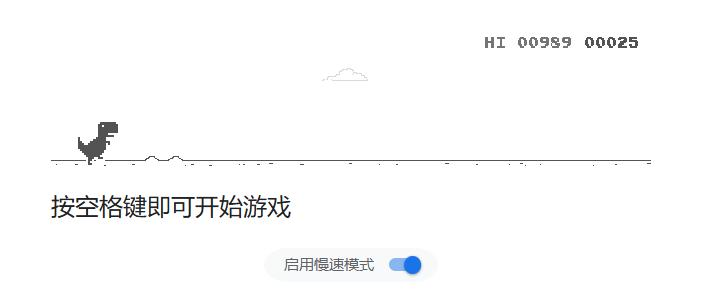dino: (76, 120, 121, 166)
